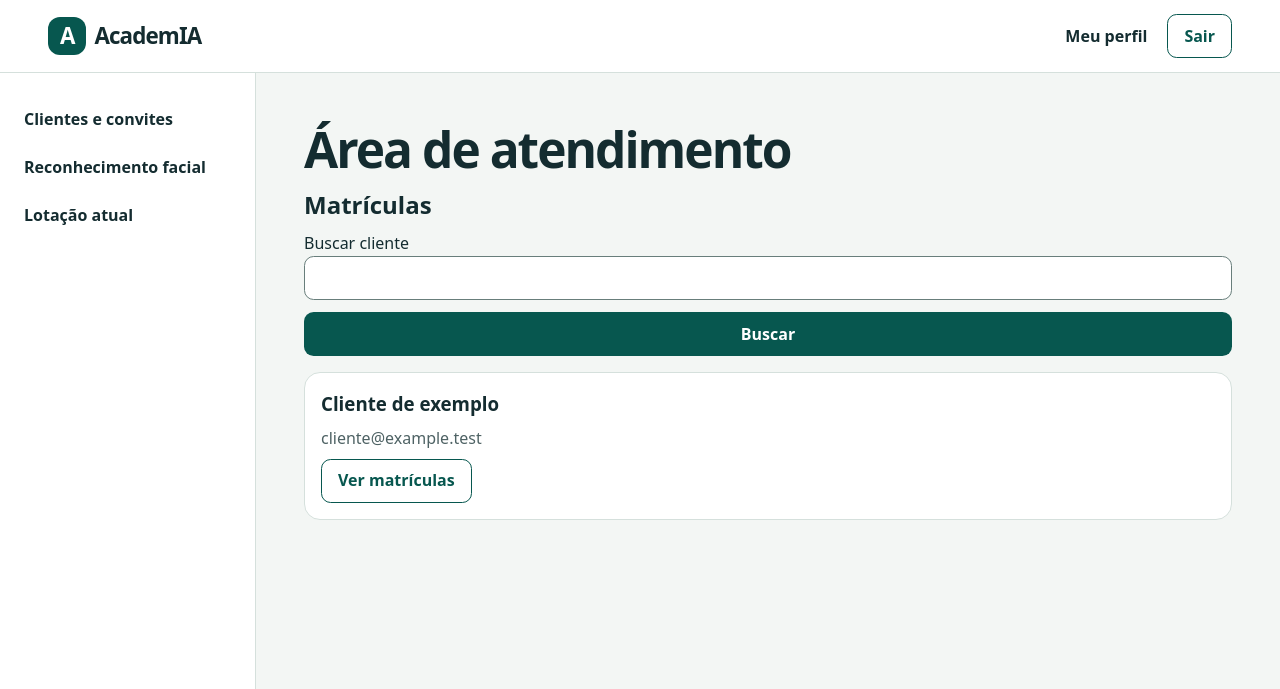
Test case: atendente matricula cliente pelo plano ativo e consulta a renovação
Click the button with aria-label "Ver matrículas de Cliente de exemplo".
click(396, 481)  # box top-left (321, 459), bottom-right (472, 503)
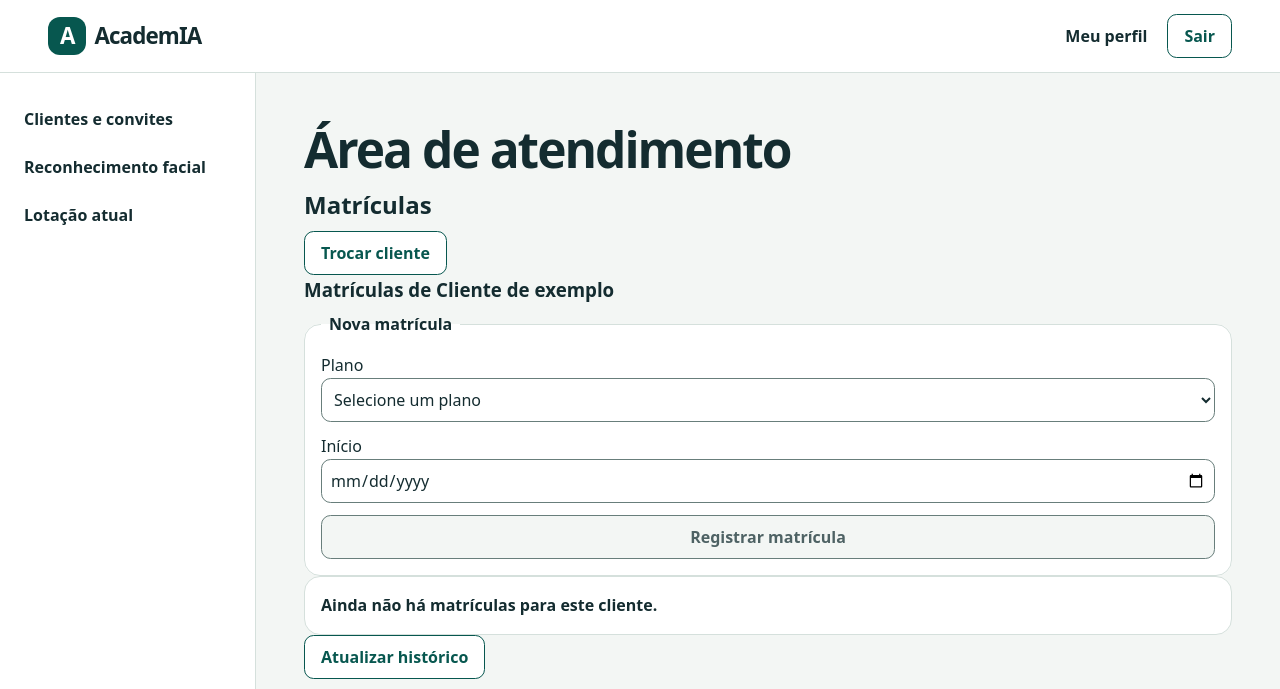
Select "Mensal · Musculação" in the dropdown labelled "Plano" at (768,400), box top-left (321, 378), bottom-right (1215, 422)
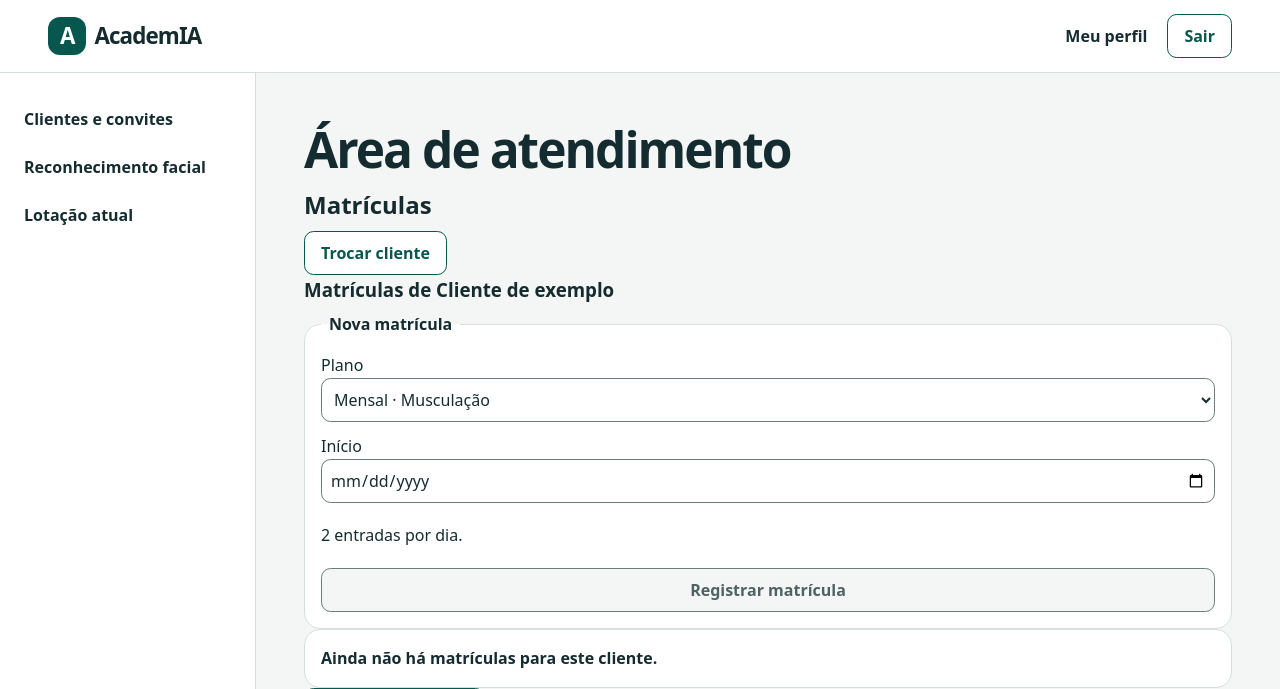
Type "2026-12-01" into the date field labelled "Início".
click(768, 481); type("2026-12-01")  # box top-left (321, 459), bottom-right (1215, 503)
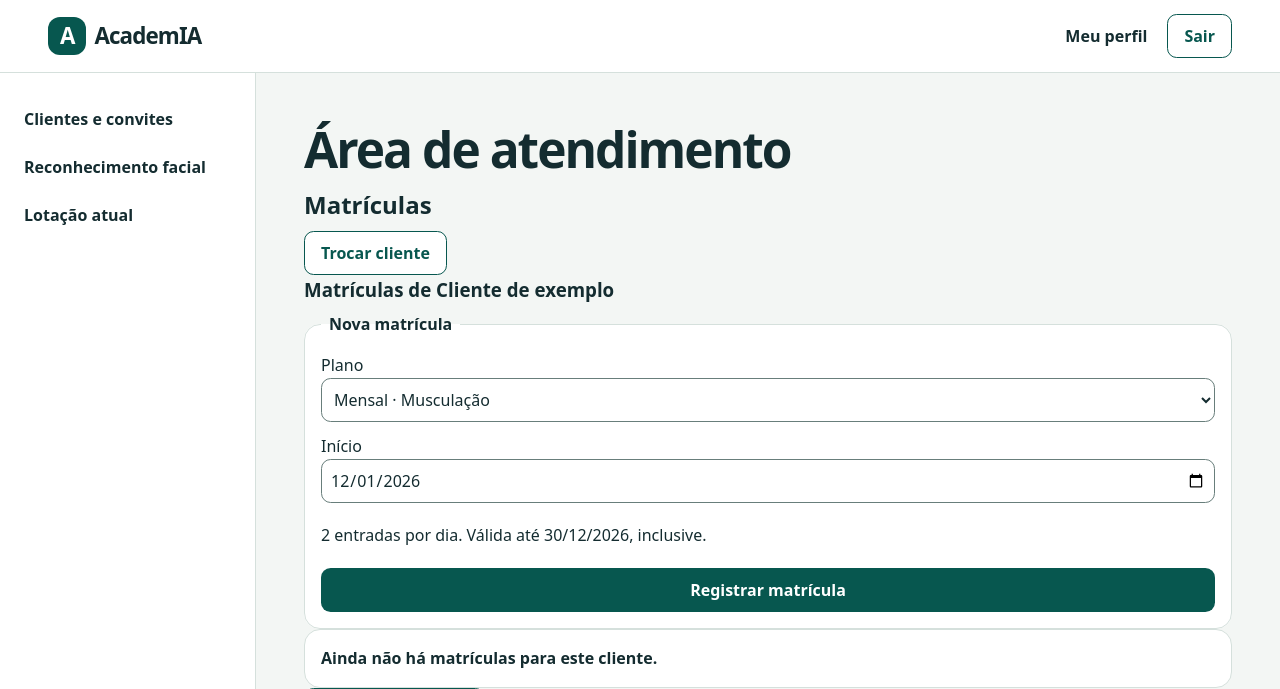
Result: the text "2 entradas por dia. Válida até 30/12/2026, inclusive." is shown at top-left (321, 524), bottom-right (706, 546)
Click the button "Registrar matrícula".
click(768, 590)  # box top-left (321, 568), bottom-right (1215, 612)
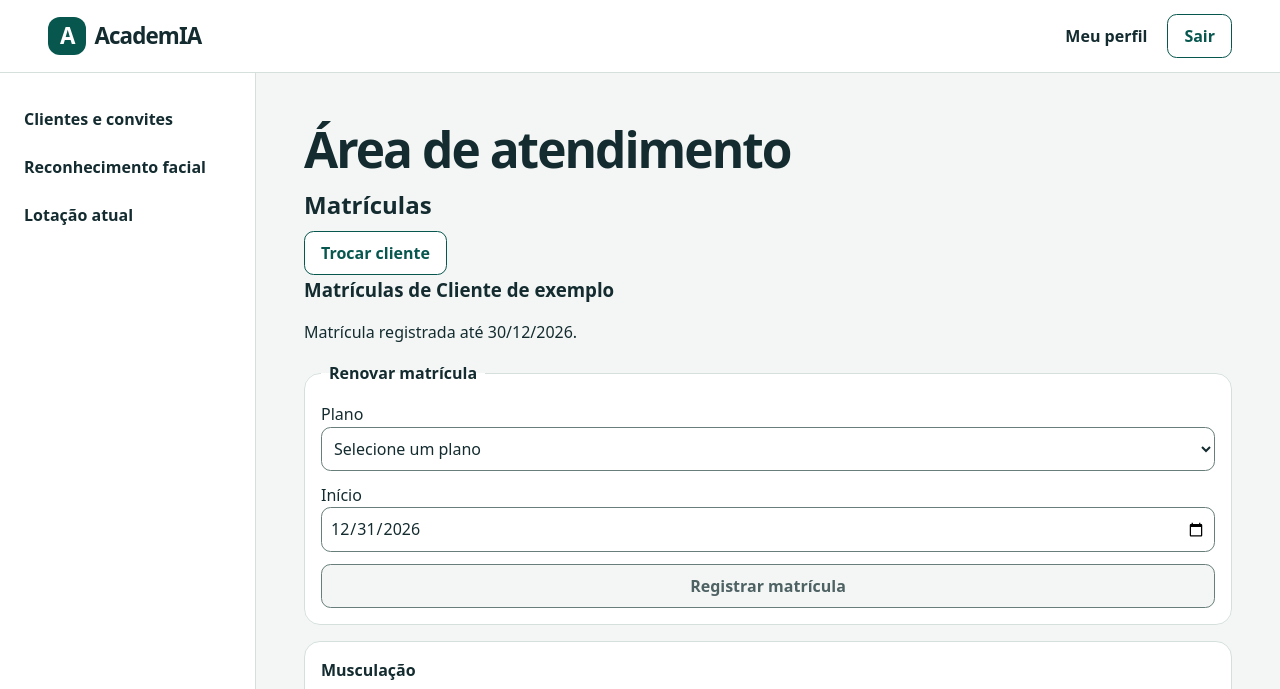
Result: the text "Matrícula registrada até 30/12/2026." is shown at top-left (304, 321), bottom-right (577, 343)
Result: the text "Renovar matrícula" is shown at top-left (321, 361), bottom-right (485, 386)
Result: the date field labelled "Início" holds "2026-12-31" at top-left (321, 507), bottom-right (1215, 552)
